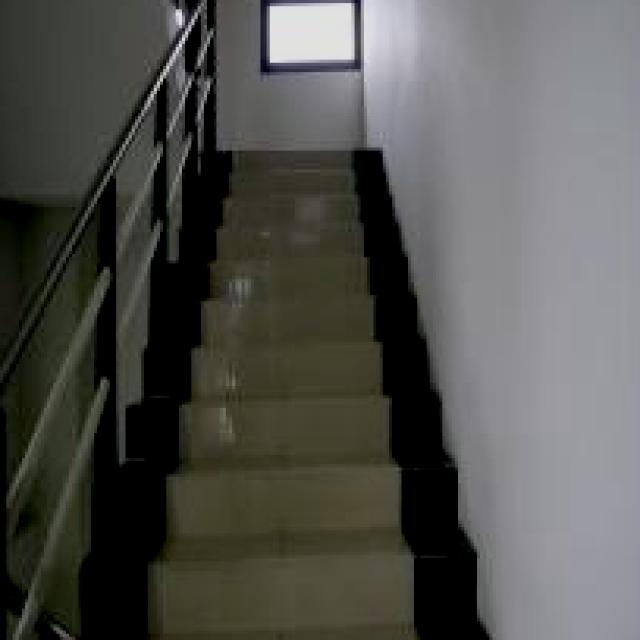upstair: (214, 154, 490, 640)
